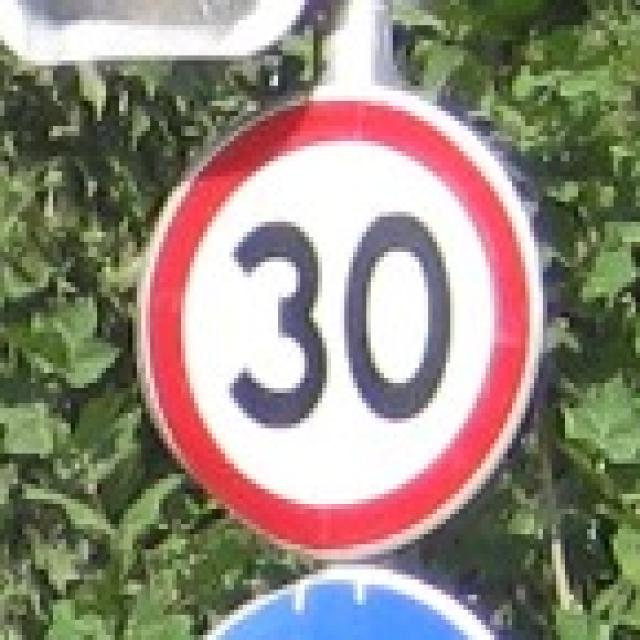Speed Limit -30-: (227, 205, 456, 436)
